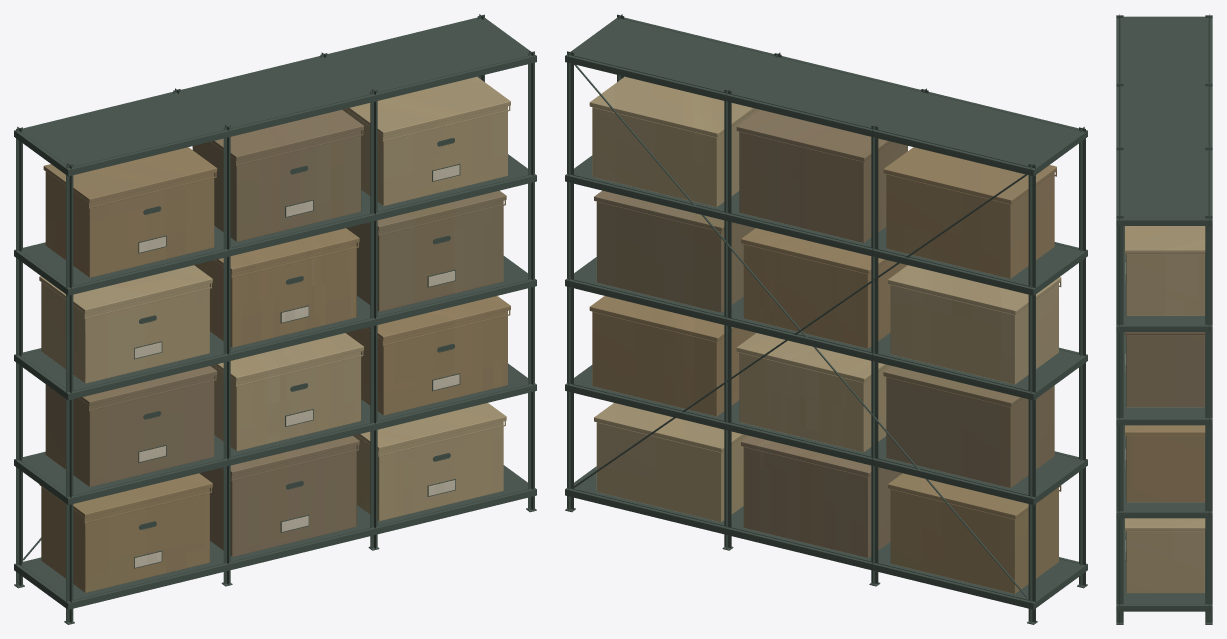
The model's file is archive-bay.glb.
3 renders of one model, left to right at view 1: azimuth 30°, elevation 25°; view 2: azimuth 150°, elevation 25°; view 3: azimuth 270°, elevation 25°, orthographic. The views are drawn at different scales.
Parts seen in each view (by area): view 1: bay-cartons, bay-frame, bay-labels; view 2: bay-cartons, bay-frame; view 3: bay-frame, bay-cartons.
Boxes of the visible parts, x1=… form: bay-cartons: x1=39, y1=77, x2=510, y2=592; bay-frame: x1=14, y1=14, x2=536, y2=624; bay-labels: x1=135, y1=165, x2=459, y2=567; bay-cartons: x1=589, y1=77, x2=1061, y2=593; bay-frame: x1=565, y1=14, x2=1087, y2=624; bay-frame: x1=1116, y1=14, x2=1212, y2=624; bay-cartons: x1=1124, y1=226, x2=1205, y2=593.
Bounding box in the file's own units: 3 × 2.8 × 0.6.
Materials: 3 (3 with a texture image).
